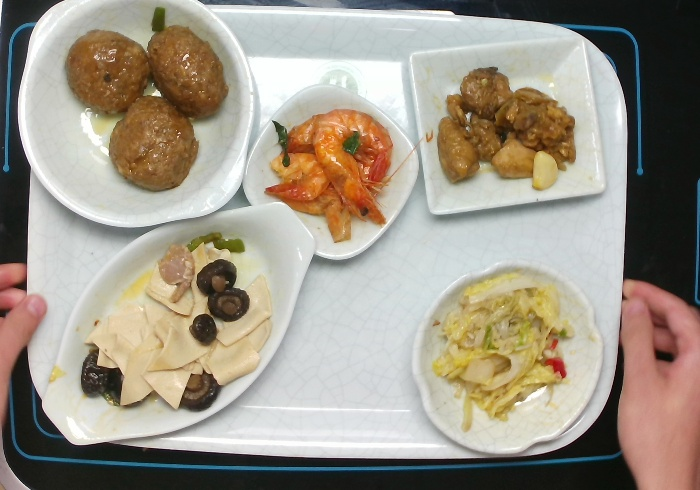JYsf-Ao_Yuan_Wan: (408, 255, 604, 459)
JYsf-Shuang_Er_Wan: (17, 1, 255, 228)
JYsf-Si_Fang_Die: (241, 77, 424, 268)
JYsf-Yu_Pan: (42, 198, 316, 447)
WCQzf-Ru_Ci_Si_Fang_Die: (407, 26, 607, 222)
